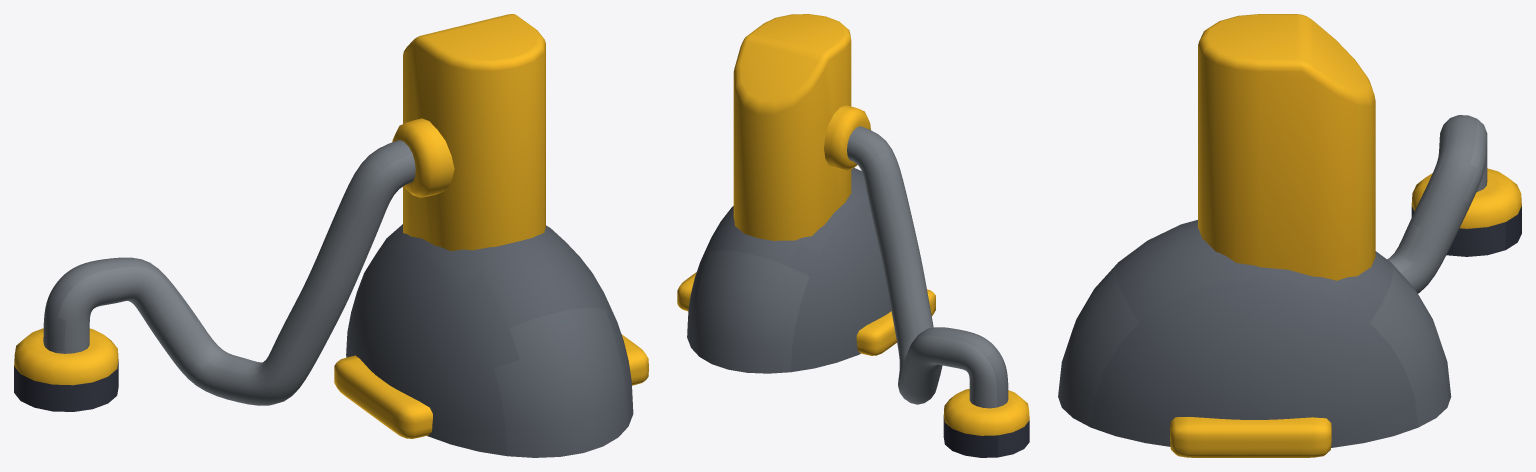
Rendered from SM_Windmill_Base.fbx.
3 views of the same model, side by side, from view 1: azimuth 30°, elevation 25°; view 2: azimuth 150°, elevation 25°; view 3: azimuth 270°, elevation 25° (orthographic). The views are drawn at different scales.
Parts seen in each view (by area): view 1: SM_Windmill_Base; view 2: SM_Windmill_Base; view 3: SM_Windmill_Base.
Boxes of the visible parts, box(x1,y1,x2,y2) form: SM_Windmill_Base: box(14, 14, 648, 457); SM_Windmill_Base: box(677, 14, 1029, 457); SM_Windmill_Base: box(1058, 14, 1521, 457).
Size of the model in its own units: 219 by 151 by 171.
